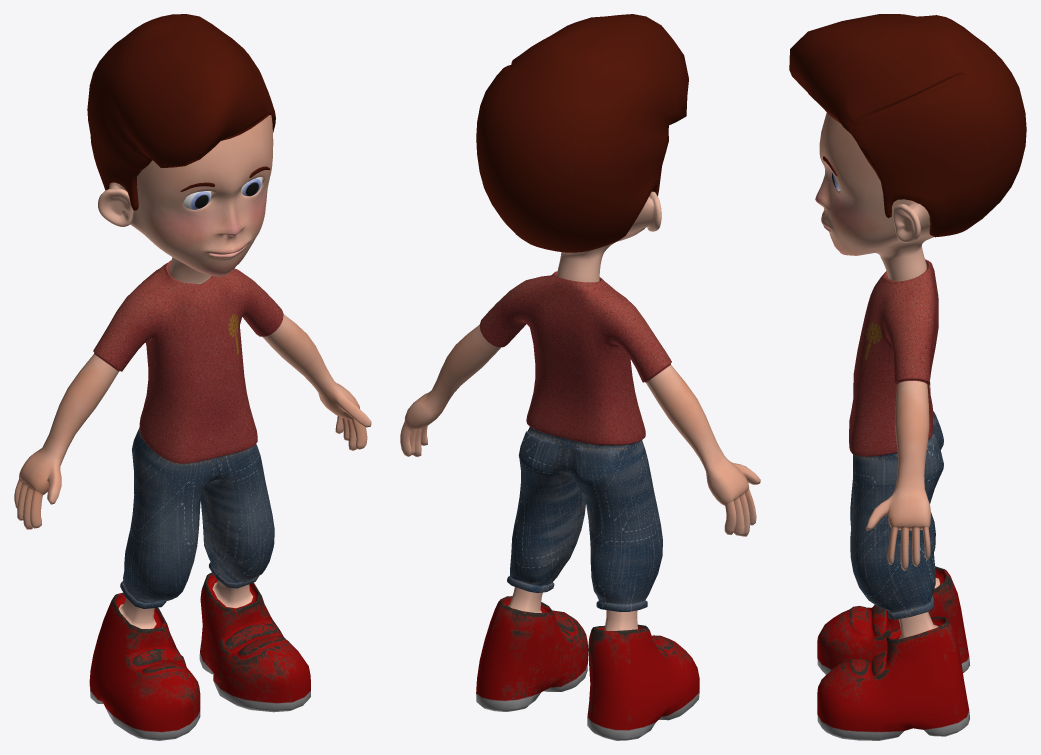
The model's file is boy.gltf.
The picture shows the model from 3 angles, left to right: view 1: azimuth 30°, elevation 25°; view 2: azimuth 150°, elevation 25°; view 3: azimuth 270°, elevation 25°; orthographic projection.
Visible parts, largest first — view 1: character01; view 2: character01; view 3: character01.
Part boxes in pixels (x1,y1,x2,y2): character01: (14,14,371,740); character01: (400,14,760,740); character01: (789,14,1026,740).
Size of the model in its own units: 1.74 by 3.29 by 1.05.
1 material, 1 textured.
